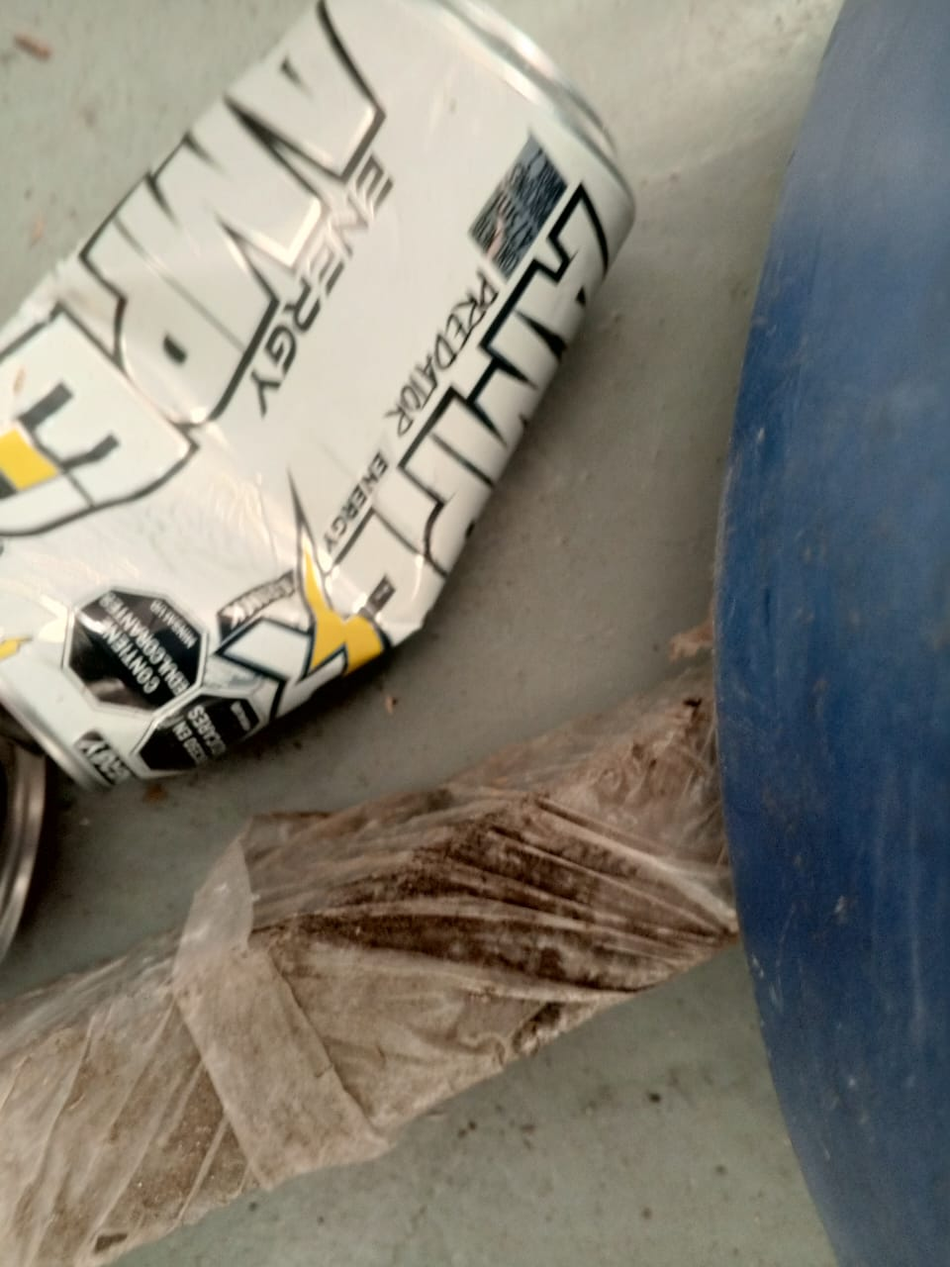Metal: (0, 0, 634, 779)
